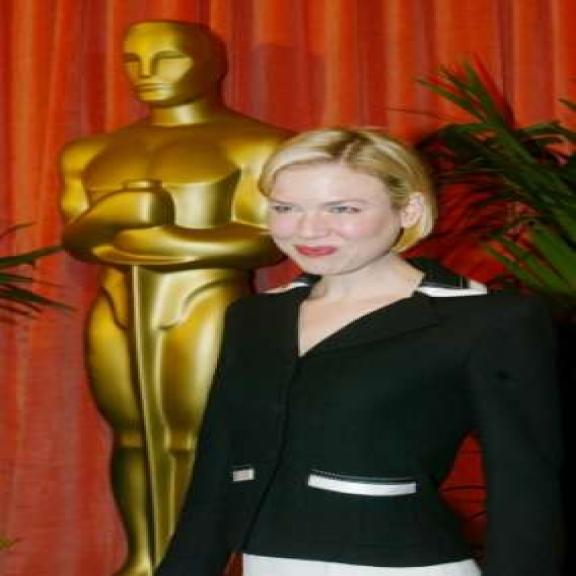face: (265, 166, 430, 276)
